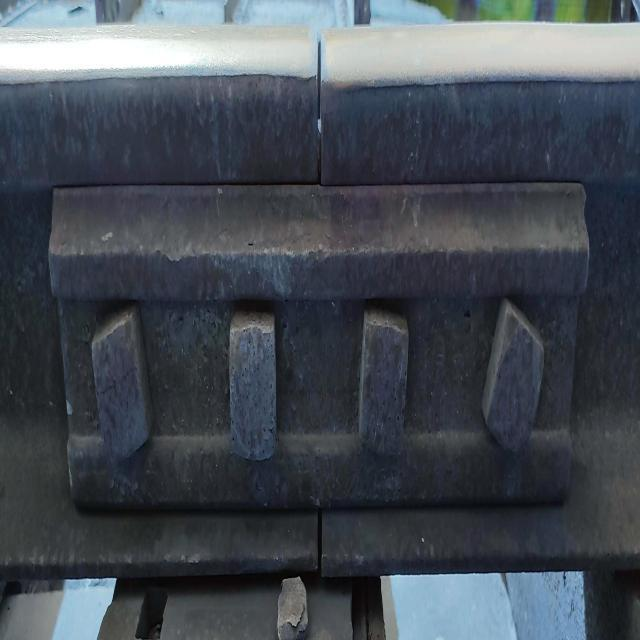Good Joint: (51, 188, 592, 517)
